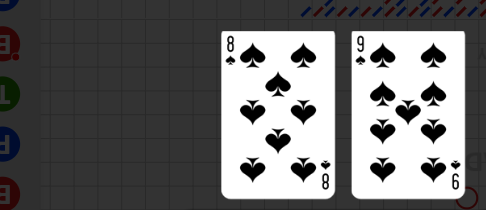10S: (225, 35, 238, 68)
9S: (355, 35, 368, 68)
